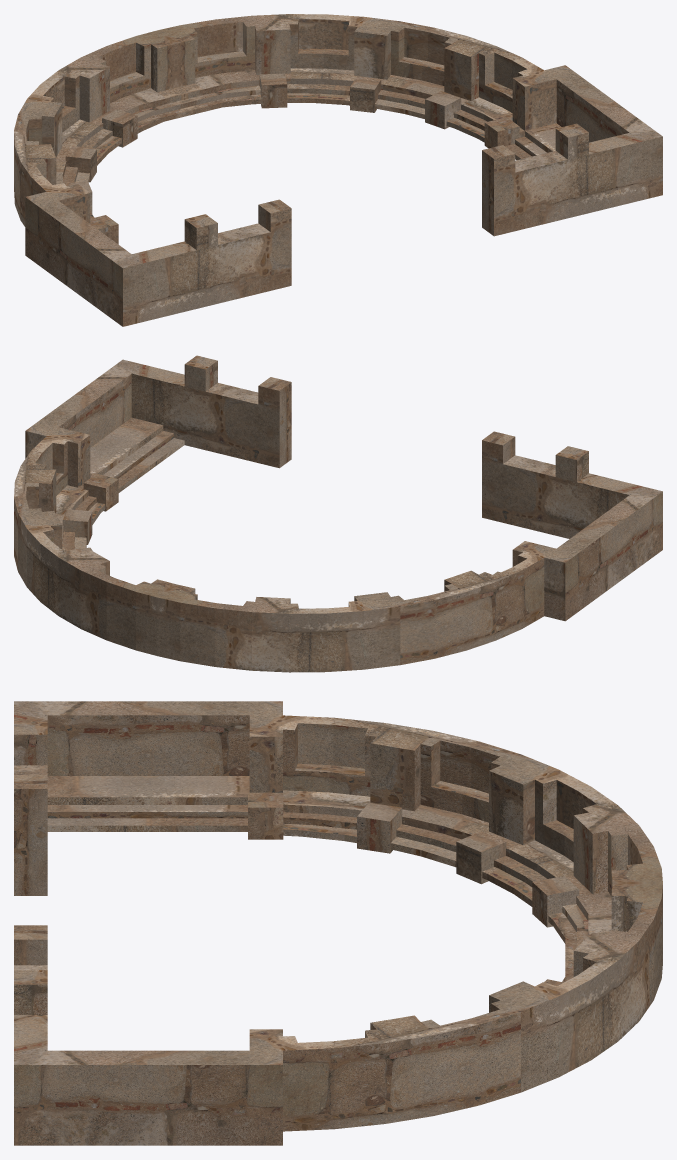
The model's file is library.gltf.
The picture shows the model from 3 angles, top to bottom: view 1: azimuth 30°, elevation 25°; view 2: azimuth 150°, elevation 25°; view 3: azimuth 270°, elevation 25°; orthographic projection. The views are drawn at different scales.
Parts seen in each view (by area): view 1: main walls; view 2: main walls; view 3: main walls.
Boxes of the visible parts, left/top/right/bottom form: main walls: left=14, top=14, right=662, bottom=326; main walls: left=14, top=355, right=662, bottom=672; main walls: left=14, top=701, right=662, bottom=1145.
Size of the model in its own units: 51.16 by 7.67 by 38.58.
Materials: 1 (1 with a texture image).
